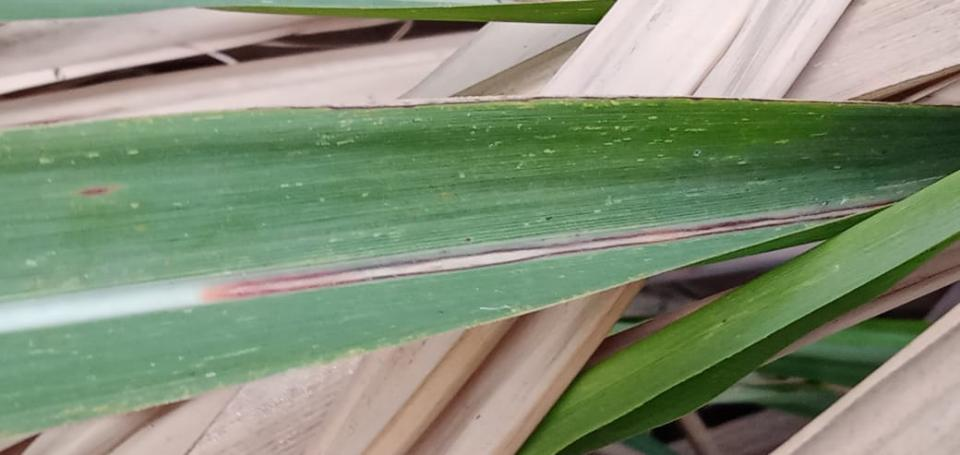RedRot: (200, 201, 897, 303)
Rust: (79, 185, 109, 197)
